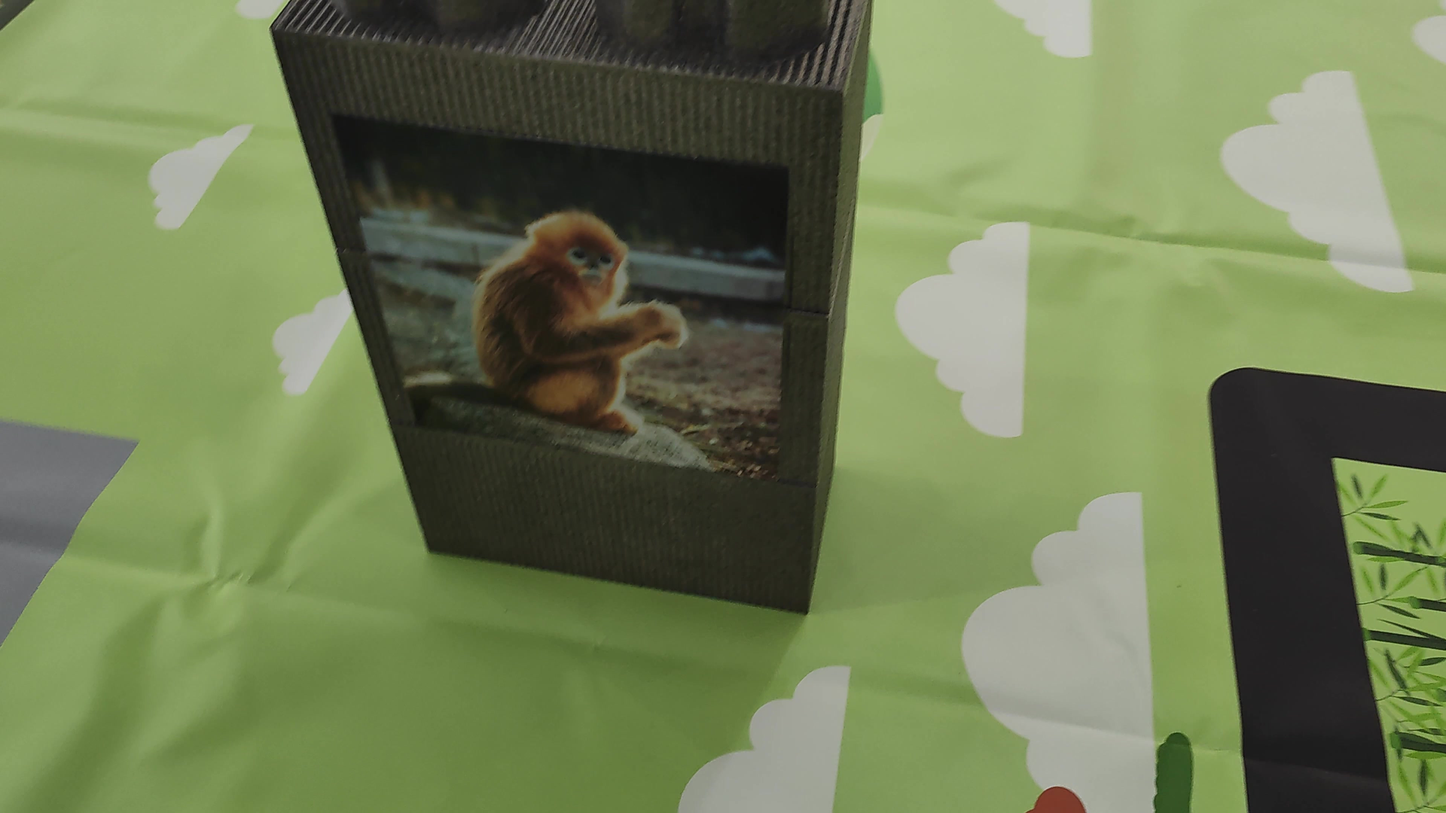monkey: (456, 182, 704, 443)
